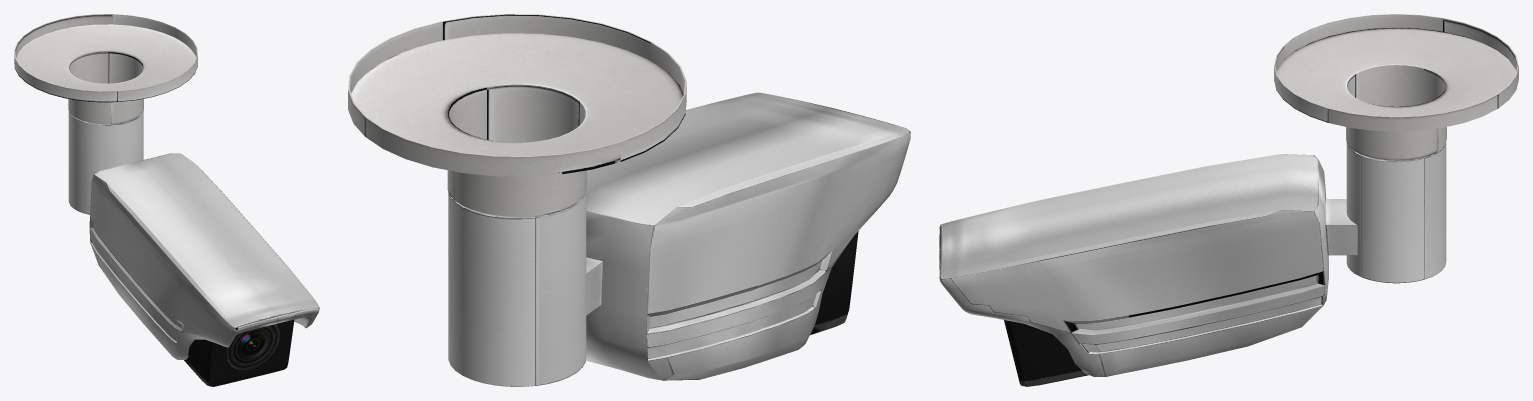
Rendered from cctv.glb.
3 renders of one model, left to right at view 1: azimuth 30°, elevation 25°; view 2: azimuth 150°, elevation 25°; view 3: azimuth 270°, elevation 25°, orthographic. The views are drawn at different scales.
Visible parts, largest first — view 1: Cube, Circle, Circle.001, Cube.001; view 2: Cube, Circle, Circle.001, Cube.001; view 3: Cube, Circle, Circle.001, Cube.001.
Part boxes in pixels (left/top/right/bottom): Cube: left=89, top=153, right=319, bottom=359; Circle: left=14, top=14, right=197, bottom=123; Circle.001: left=68, top=110, right=143, bottom=214; Cube.001: left=184, top=320, right=294, bottom=386; Cube: left=586, top=92, right=910, bottom=380; Circle: left=348, top=14, right=686, bottom=216; Circle.001: left=448, top=192, right=586, bottom=386; Cube.001: left=810, top=231, right=858, bottom=334; Cube: left=939, top=154, right=1357, bottom=376; Circle: left=1274, top=14, right=1518, bottom=160; Circle.001: left=1346, top=142, right=1446, bottom=283; Cube.001: left=1004, top=320, right=1088, bottom=386.
Bounding box in the file's own units: 1.37 × 1.83 × 3.23.
4 materials, 4 textured.
